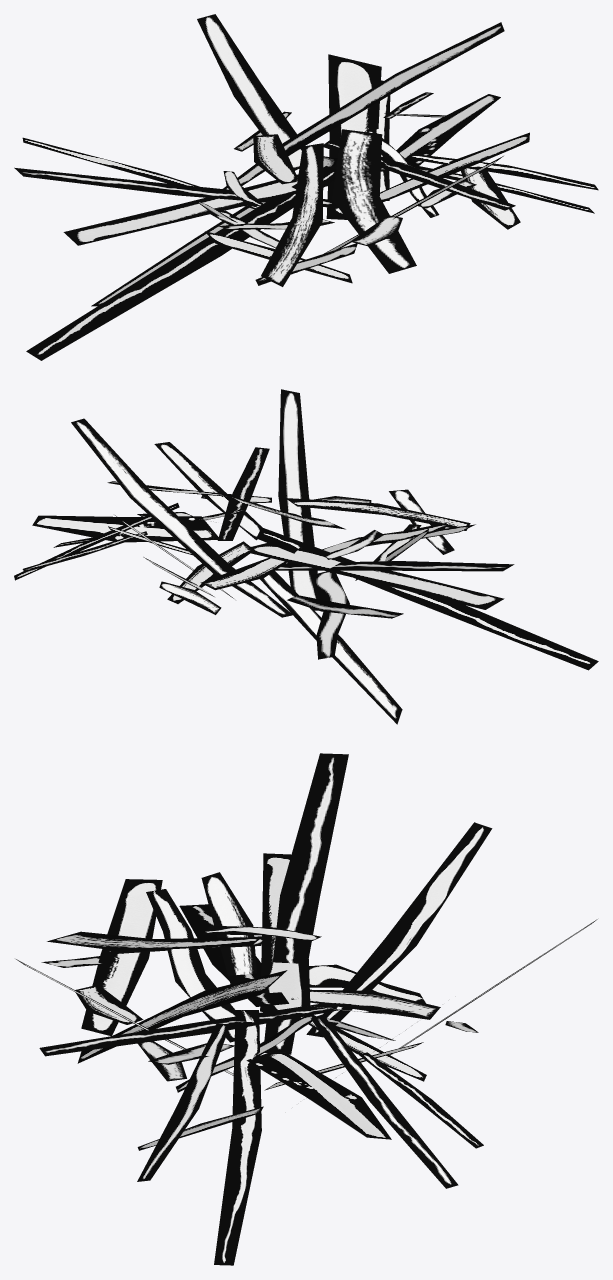
File: BaseLine.glb
3 renders of one model, top to bottom at view 1: azimuth 30°, elevation 25°; view 2: azimuth 150°, elevation 25°; view 3: azimuth 270°, elevation 25°, orthographic. The views are drawn at different scales.
Parts seen in each view (by area): view 1: BaseLine_33, BaseLine_21, BaseLine_31, BaseLine_38, BaseLine_30, BaseLine_20, BaseLine_35, BaseLine_34, BaseLine_28, BaseLine_41, BaseLine_45, BaseLine_46 (+14 smaller); view 2: BaseLine_30, BaseLine_23, BaseLine_33, BaseLine_20, BaseLine_27, BaseLine_28, BaseLine_34, BaseLine_37, BaseLine_41, BaseLine_38, BaseLine_45, BaseLine_46 (+9 smaller); view 3: BaseLine_34, BaseLine_36, BaseLine_51, BaseLine_40, BaseLine_28, BaseLine_20, BaseLine_48, BaseLine_22, BaseLine_45, BaseLine_42, BaseLine_21, BaseLine_26 (+11 smaller).
Part boxes in pixels (left/top/right/bottom): BaseLine_33: left=26, top=166, right=336, bottom=360; BaseLine_21: left=332, top=129, right=416, bottom=273; BaseLine_31: left=197, top=14, right=302, bottom=170; BaseLine_38: left=261, top=143, right=323, bottom=286; BaseLine_30: left=223, top=22, right=504, bottom=189; BaseLine_20: left=63, top=174, right=329, bottom=245; BaseLine_35: left=326, top=54, right=381, bottom=219; BaseLine_34: left=14, top=167, right=338, bottom=207; BaseLine_28: left=380, top=94, right=500, bottom=171; BaseLine_41: left=379, top=132, right=529, bottom=201; BaseLine_45: left=323, top=140, right=515, bottom=210; BaseLine_46: left=253, top=134, right=297, bottom=184; BaseLine_30: left=71, top=418, right=293, bottom=617; BaseLine_23: left=278, top=389, right=319, bottom=610; BaseLine_33: left=256, top=527, right=598, bottom=670; BaseLine_20: left=251, top=543, right=504, bottom=609; BaseLine_27: left=260, top=571, right=402, bottom=724; BaseLine_28: left=32, top=515, right=218, bottom=542; BaseLine_34: left=275, top=561, right=514, bottom=571; BaseLine_37: left=311, top=571, right=349, bottom=659; BaseLine_41: left=154, top=442, right=262, bottom=540; BaseLine_38: left=285, top=498, right=470, bottom=530; BaseLine_45: left=217, top=447, right=269, bottom=540; BaseLine_46: left=200, top=557, right=287, bottom=590; BaseLine_34: left=264, top=753, right=348, bottom=1054; BaseLine_36: left=214, top=1010, right=261, bottom=1265; BaseLine_51: left=306, top=822, right=492, bottom=1037; BaseLine_40: left=81, top=879, right=162, bottom=1036; BaseLine_28: left=246, top=1049, right=391, bottom=1139; BaseLine_20: left=260, top=853, right=310, bottom=1020; BaseLine_48: left=310, top=1014, right=458, bottom=1188; BaseLine_22: left=146, top=889, right=235, bottom=1042; BaseLine_45: left=39, top=1002, right=338, bottom=1056; BaseLine_42: left=137, top=1023, right=230, bottom=1181; BaseLine_21: left=77, top=970, right=287, bottom=1063; BaseLine_26: left=201, top=872, right=256, bottom=984.
Size of what is drawn, in the model's own units: 3.13 by 1.11 by 2.15.
Materials: 1 (1 with a texture image).
